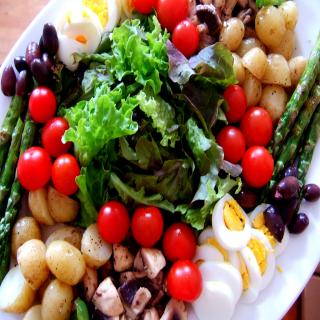tomato: (17, 145, 54, 193), (166, 259, 202, 301), (96, 199, 128, 245), (162, 223, 199, 262), (242, 144, 274, 188), (42, 118, 72, 164), (130, 205, 162, 248), (51, 155, 81, 197), (238, 106, 270, 144), (28, 85, 58, 125), (157, 0, 189, 34), (172, 19, 198, 58), (217, 127, 246, 161), (222, 85, 247, 124), (130, 0, 156, 12)
